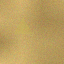structure: (13, 17, 32, 34)
